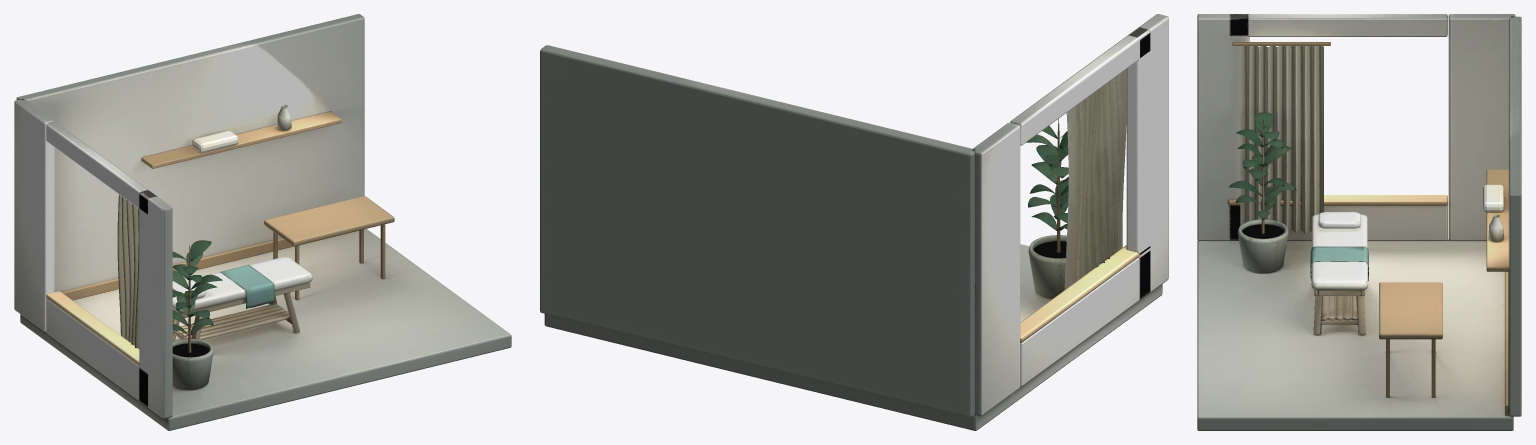
Rendered from sala.medium.glb.
3 views of the same model, side by side, from view 1: azimuth 30°, elevation 25°; view 2: azimuth 150°, elevation 25°; view 3: azimuth 270°, elevation 25° (orthographic). The views are drawn at different scales.
Visible parts, largest first — view 1: Sala_camilla, Cortina_lino; view 2: Sala_camilla, Cortina_lino; view 3: Sala_camilla, Cortina_lino.
Part boxes in pixels (bbox=[...]): Sala_camilla: bbox=[14, 14, 511, 430]; Cortina_lino: bbox=[117, 194, 139, 348]; Sala_camilla: bbox=[540, 14, 1168, 430]; Cortina_lino: bbox=[1064, 69, 1126, 289]; Sala_camilla: bbox=[1197, 14, 1521, 430]; Cortina_lino: bbox=[1240, 46, 1323, 233].
Bounding box in the file's own units: 4.87 × 2.98 × 3.69.
1 material, 1 textured.
